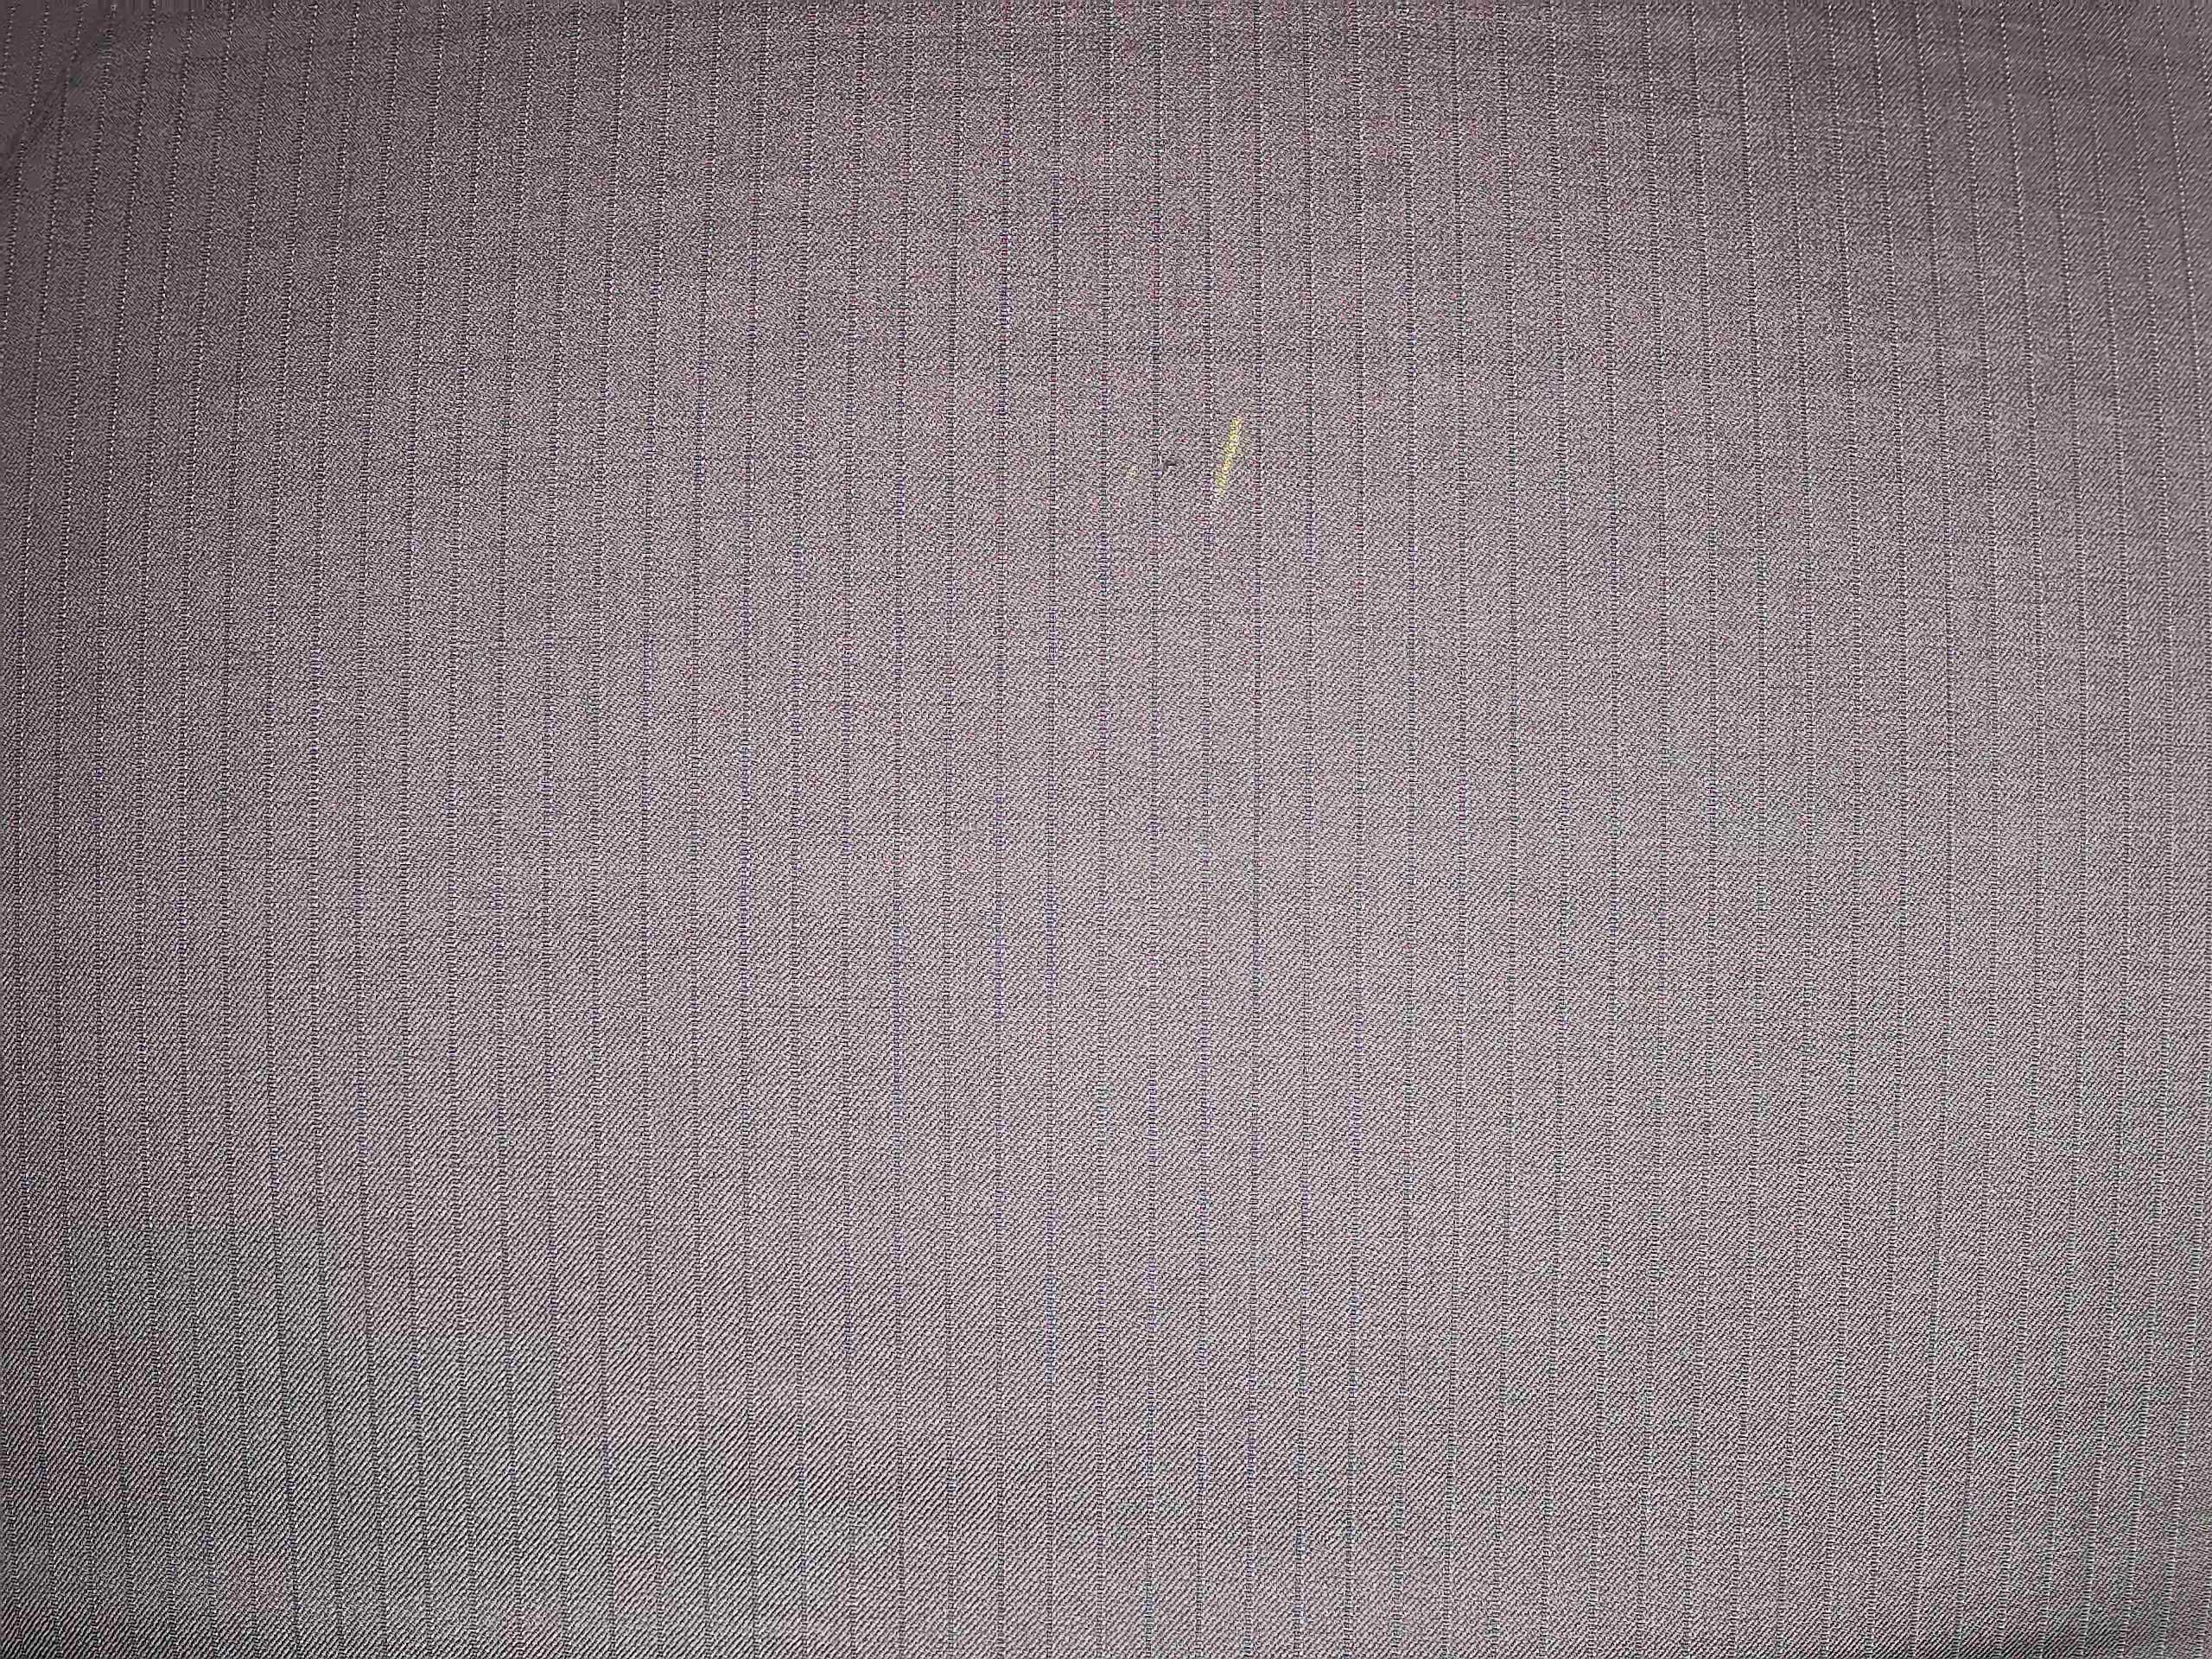knots: (1097, 416, 1221, 514)
